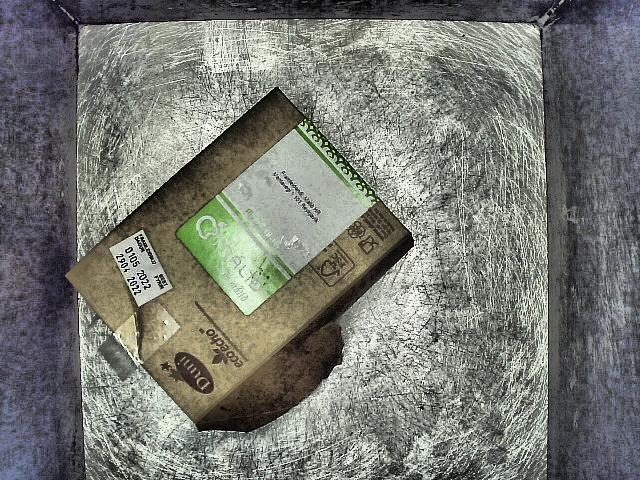Paper: (63, 82, 419, 463)
